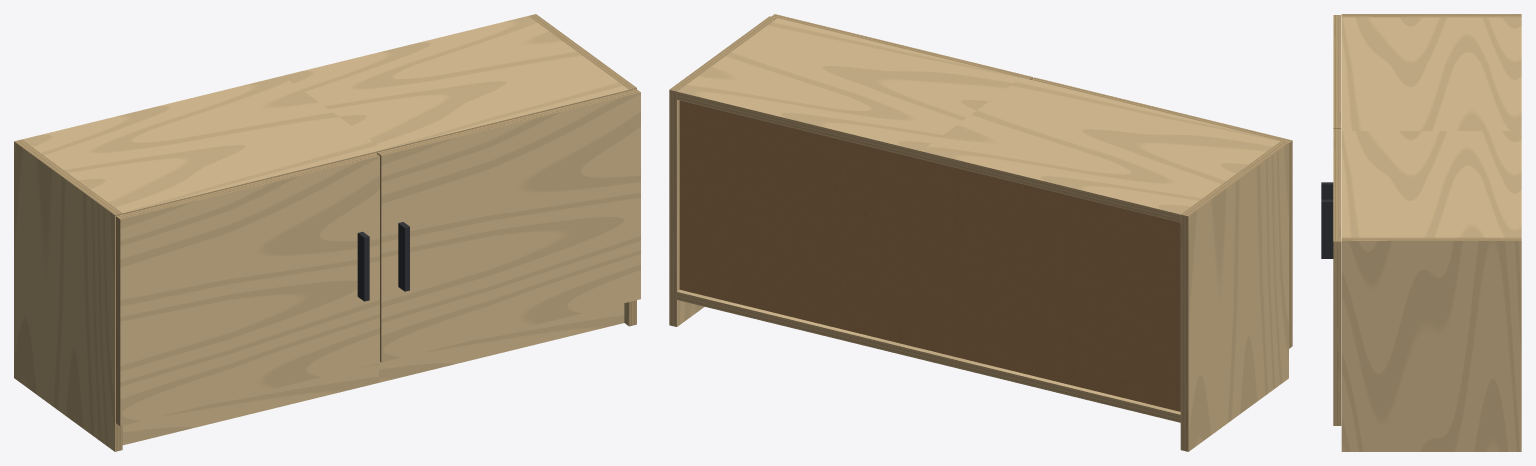
The model's file is SAB-MED-short.glb.
3 renders of one model, left to right at view 1: azimuth 30°, elevation 25°; view 2: azimuth 150°, elevation 25°; view 3: azimuth 270°, elevation 25°, orthographic. The views are drawn at different scales.
Parts seen in each view (by area): view 1: door-r:sheet:eyJtIjoicGx5Iiwic2lkZSI6ImZhY2UiLCJzZWVkIjoyLCJ, door-l:sheet:eyJtIjoicGx5Iiwic2lkZSI6ImZhY2UiLCJzZWVkIjoyLCJ, top:sheet:eyJtIjoicGx5Iiwic2lkZSI6ImZhY2UiLCJzZWVkIjo2LCJ2ZW, side-l:sheet:eyJtIjoicGx5Iiwic2lkZSI6ImZhY2UiLCJzZWVkIjoxLCJ, plinth:sheet:eyJtIjoicGx5Iiwic2lkZSI6ImZhY2UiLCJzZWVkIjozLCJ, pull, door-l:sheet:eyJtIjoicGx5Iiwic2lkZSI6ImVkZ2UtbG9uZyIsInNlZWQ, door-r:sheet:eyJtIjoicGx5Iiwic2lkZSI6ImVkZ2UtbG9uZyIsInNlZWQ, door-l:sheet:eyJtIjoicGx5Iiwic2lkZSI6ImVkZ2UtZW5kIiwic2VlZCI, top:sheet:eyJtIjoicGx5Iiwic2lkZSI6ImVkZ2UtbG9uZyIsInNlZWQiOj, side-l:sheet:eyJtIjoicGx5Iiwic2lkZSI6ImVkZ2UtZW5kIiwic2VlZCI, side-r:sheet:eyJtIjoicGx5Iiwic2lkZSI6ImVkZ2UtZW5kIiwic2VlZCI; view 2: back:sheet:eyJtIjoibWRmIiwic2lkZSI6ImZhY2UiLCJzZWVkIjoxLCJ0a, top:sheet:eyJtIjoicGx5Iiwic2lkZSI6ImZhY2UiLCJzZWVkIjo2LCJ2ZW, side-l:sheet:eyJtIjoicGx5Iiwic2lkZSI6ImZhY2UiLCJzZWVkIjoxLCJ, top:sheet:eyJtIjoicGx5Iiwic2lkZSI6ImVkZ2UtbG9uZyIsInNlZWQiOj, bottom:sheet:eyJtIjoicGx5Iiwic2lkZSI6ImVkZ2UtbG9uZyIsInNlZWQ, side-l:sheet:eyJtIjoicGx5Iiwic2lkZSI6ImVkZ2UtbG9uZyIsInNlZWQ, side-r:sheet:eyJtIjoicGx5Iiwic2lkZSI6ImVkZ2UtbG9uZyIsInNlZWQ, bottom:sheet:eyJtIjoicGx5Iiwic2lkZSI6ImZhY2UiLCJzZWVkIjowLCJ, door-r:sheet:eyJtIjoicGx5Iiwic2lkZSI6ImVkZ2UtbG9uZyIsInNlZWQ, door-l:sheet:eyJtIjoicGx5Iiwic2lkZSI6ImVkZ2UtbG9uZyIsInNlZWQ, side-r:sheet:eyJtIjoicGx5Iiwic2lkZSI6ImZhY2UiLCJzZWVkIjozLCJ, side-l:sheet:eyJtIjoicGx5Iiwic2lkZSI6ImVkZ2UtZW5kIiwic2VlZCI (+2 smaller); view 3: top:sheet:eyJtIjoicGx5Iiwic2lkZSI6ImZhY2UiLCJzZWVkIjo2LCJ2ZW, side-r:sheet:eyJtIjoicGx5Iiwic2lkZSI6ImZhY2UiLCJzZWVkIjozLCJ, door-r:sheet:eyJtIjoicGx5Iiwic2lkZSI6ImVkZ2UtZW5kIiwic2VlZCI, door-r:sheet:eyJtIjoicGx5Iiwic2lkZSI6ImVkZ2UtbG9uZyIsInNlZWQ, door-l:sheet:eyJtIjoicGx5Iiwic2lkZSI6ImVkZ2UtbG9uZyIsInNlZWQ, pull, side-l:sheet:eyJtIjoicGx5Iiwic2lkZSI6ImVkZ2UtZW5kIiwic2VlZCI, side-r:sheet:eyJtIjoicGx5Iiwic2lkZSI6ImVkZ2UtZW5kIiwic2VlZCI.
Boxes of the visible parts, box(x1,y1,x2,y2) form: door-r:sheet:eyJtIjoicGx5Iiwic2lkZSI6ImZhY2UiLCJzZWVkIjoyLCJ: box(381, 92, 640, 362); door-l:sheet:eyJtIjoicGx5Iiwic2lkZSI6ImZhY2UiLCJzZWVkIjoyLCJ: box(120, 156, 379, 425); top:sheet:eyJtIjoicGx5Iiwic2lkZSI6ImZhY2UiLCJzZWVkIjo2LCJ2ZW: box(22, 16, 628, 213); side-l:sheet:eyJtIjoicGx5Iiwic2lkZSI6ImZhY2UiLCJzZWVkIjoxLCJ: box(14, 141, 114, 451); plinth:sheet:eyJtIjoicGx5Iiwic2lkZSI6ImZhY2UiLCJzZWVkIjozLCJ: box(122, 303, 624, 445); pull: box(357, 222, 409, 301); door-l:sheet:eyJtIjoicGx5Iiwic2lkZSI6ImVkZ2UtbG9uZyIsInNlZWQ: box(116, 153, 379, 219); door-r:sheet:eyJtIjoicGx5Iiwic2lkZSI6ImVkZ2UtbG9uZyIsInNlZWQ: box(377, 89, 640, 155); door-l:sheet:eyJtIjoicGx5Iiwic2lkZSI6ImVkZ2UtZW5kIiwic2VlZCI: box(116, 216, 120, 425); top:sheet:eyJtIjoicGx5Iiwic2lkZSI6ImVkZ2UtbG9uZyIsInNlZWQiOj: box(122, 90, 629, 214); side-l:sheet:eyJtIjoicGx5Iiwic2lkZSI6ImVkZ2UtZW5kIiwic2VlZCI: box(14, 139, 122, 214); side-r:sheet:eyJtIjoicGx5Iiwic2lkZSI6ImVkZ2UtZW5kIiwic2VlZCI: box(529, 14, 636, 89); back:sheet:eyJtIjoibWRmIiwic2lkZSI6ImZhY2UiLCJzZWVkIjoxLCJ0a: box(679, 100, 1180, 411); top:sheet:eyJtIjoicGx5Iiwic2lkZSI6ImZhY2UiLCJzZWVkIjo2LCJ2ZW: box(677, 18, 1280, 214); side-l:sheet:eyJtIjoicGx5Iiwic2lkZSI6ImZhY2UiLCJzZWVkIjoxLCJ: box(1188, 143, 1288, 451); top:sheet:eyJtIjoicGx5Iiwic2lkZSI6ImVkZ2UtbG9uZyIsInNlZWQiOj: box(677, 91, 1180, 222); bottom:sheet:eyJtIjoicGx5Iiwic2lkZSI6ImVkZ2UtbG9uZyIsInNlZWQ: box(677, 292, 1180, 422); side-l:sheet:eyJtIjoicGx5Iiwic2lkZSI6ImVkZ2UtbG9uZyIsInNlZWQ: box(1180, 214, 1188, 451); side-r:sheet:eyJtIjoicGx5Iiwic2lkZSI6ImVkZ2UtbG9uZyIsInNlZWQ: box(669, 90, 676, 326); bottom:sheet:eyJtIjoicGx5Iiwic2lkZSI6ImZhY2UiLCJzZWVkIjowLCJ: box(677, 290, 1180, 414); door-r:sheet:eyJtIjoicGx5Iiwic2lkZSI6ImVkZ2UtbG9uZyIsInNlZWQ: box(771, 14, 1032, 79); door-l:sheet:eyJtIjoicGx5Iiwic2lkZSI6ImVkZ2UtbG9uZyIsInNlZWQ: box(1031, 77, 1292, 142); side-r:sheet:eyJtIjoicGx5Iiwic2lkZSI6ImZhY2UiLCJzZWVkIjozLCJ: box(677, 100, 704, 326); side-l:sheet:eyJtIjoicGx5Iiwic2lkZSI6ImVkZ2UtZW5kIiwic2VlZCI: box(1181, 141, 1288, 216); top:sheet:eyJtIjoicGx5Iiwic2lkZSI6ImZhY2UiLCJzZWVkIjo2LCJ2ZW: box(1341, 17, 1521, 237); side-r:sheet:eyJtIjoicGx5Iiwic2lkZSI6ImZhY2UiLCJzZWVkIjozLCJ: box(1341, 241, 1521, 451); door-r:sheet:eyJtIjoicGx5Iiwic2lkZSI6ImVkZ2UtZW5kIiwic2VlZCI: box(1333, 241, 1341, 425); door-r:sheet:eyJtIjoicGx5Iiwic2lkZSI6ImVkZ2UtbG9uZyIsInNlZWQ: box(1333, 128, 1341, 241); door-l:sheet:eyJtIjoicGx5Iiwic2lkZSI6ImVkZ2UtbG9uZyIsInNlZWQ: box(1333, 15, 1341, 127); pull: box(1321, 182, 1333, 258); side-l:sheet:eyJtIjoicGx5Iiwic2lkZSI6ImVkZ2UtZW5kIiwic2VlZCI: box(1341, 14, 1521, 17); side-r:sheet:eyJtIjoicGx5Iiwic2lkZSI6ImVkZ2UtZW5kIiwic2VlZCI: box(1341, 237, 1521, 240).
Size of the model in its own units: 1.2 by 0.52 by 0.4468.
34 materials, 33 textured.
